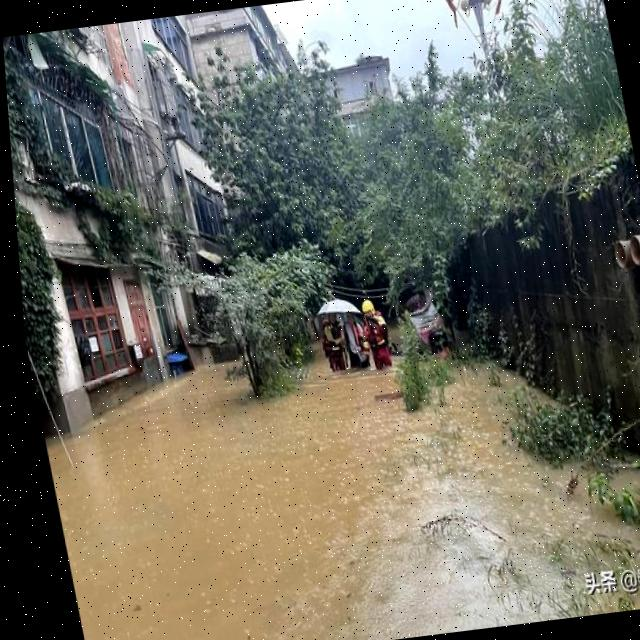rescuer: (354, 284, 400, 374), (310, 302, 353, 386)
